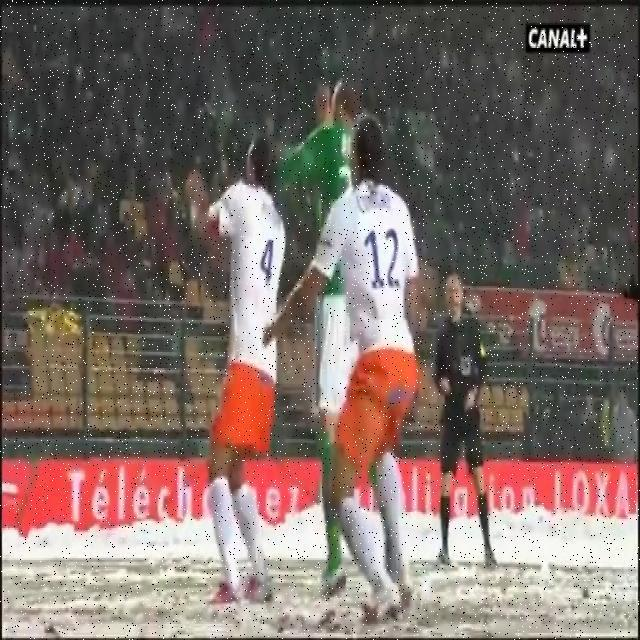player: (174, 103, 294, 609), (305, 133, 427, 621), (272, 50, 356, 601), (302, 78, 305, 120)
referee: (427, 234, 505, 590)
